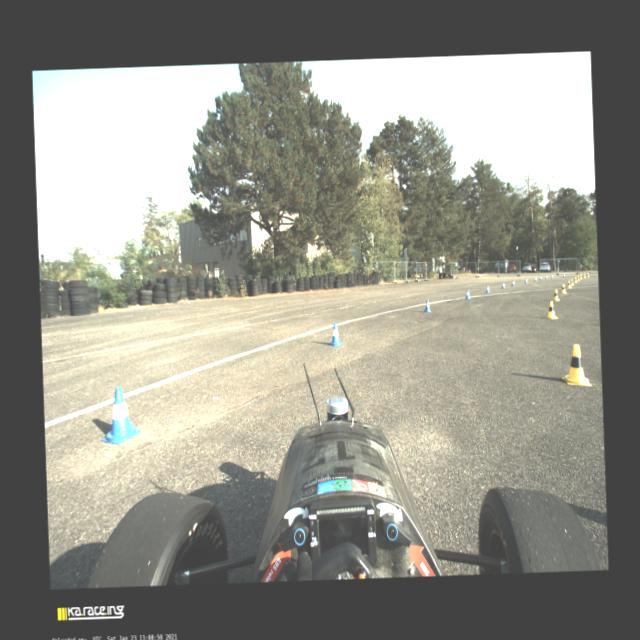blue_cone: (100, 386, 142, 444), (330, 322, 342, 346), (422, 298, 431, 312), (464, 289, 470, 299), (485, 284, 489, 292), (501, 281, 505, 288), (511, 280, 514, 286), (524, 278, 527, 283), (538, 275, 541, 280), (534, 276, 536, 282), (544, 274, 547, 278), (550, 274, 553, 278), (562, 273, 564, 277)
yellow_cone: (560, 343, 592, 387), (546, 300, 558, 319), (552, 288, 560, 301), (560, 284, 566, 294), (567, 280, 572, 288), (570, 278, 574, 286), (576, 275, 580, 281), (574, 276, 578, 282), (582, 273, 586, 278), (579, 273, 582, 279), (586, 272, 589, 277)
